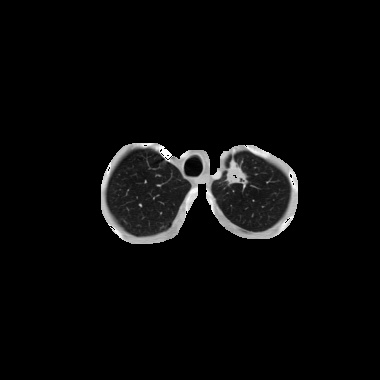PN: (224, 163, 248, 187)
